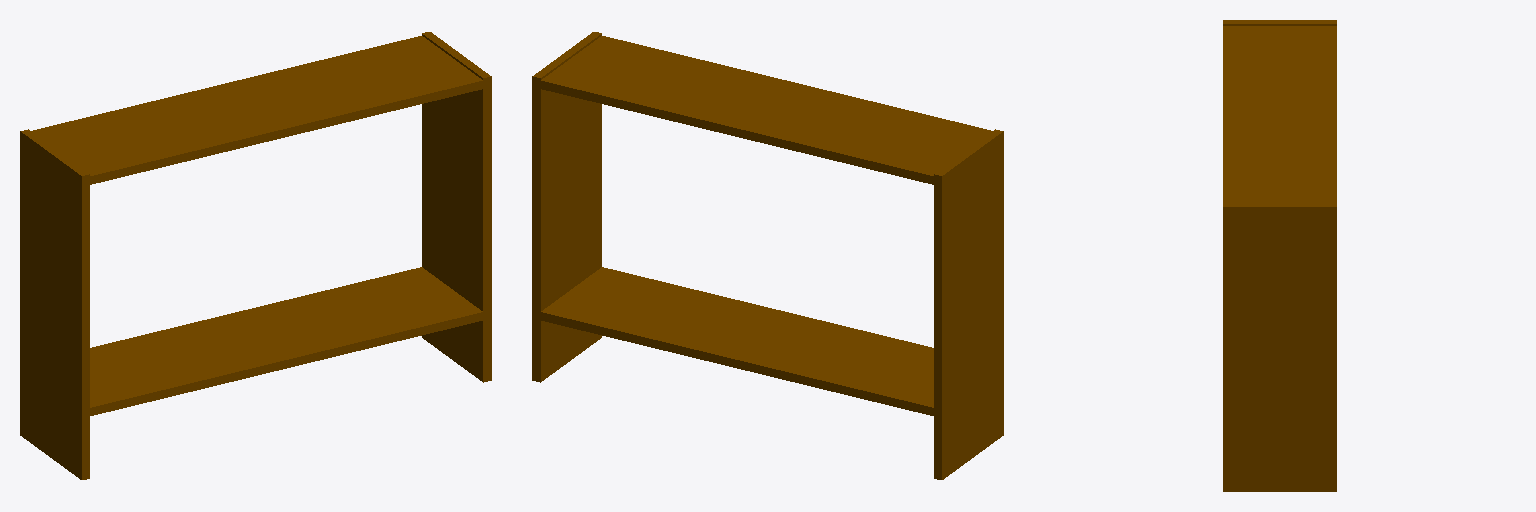
robot.urdf — shelf:
<?xml version="1.0" ?>
<robot name="shelf">
  <link name="shelf__link">
    <inertial>
      <mass value="1.0"/>
      <origin rpy="0 0 0" xyz="0 0 0"/>
      <inertia ixx="0" ixy="0" ixz="0" iyy="0" iyz="0" izz="0"/>
    </inertial>

    <collision name="shelf__left_side">
      <origin rpy="0 0 0" xyz="0.245 -0.065 0.1"/>
      <geometry>
        <box size="0.01 0.13 0.355"/>
      </geometry>
    </collision>
    <visual>
      <origin rpy="0 0 0" xyz="0.245 -0.065 0.1"/>
      <geometry>
        <box size="0.01 0.13 0.355"/>
      </geometry>
      <material name="Wood">
        <color rgba="0.5 0.32 0.0 1.0"/>
      </material>
    </visual>

    <collision name="shelf__right_side">
      <origin rpy="0 0 0" xyz="-0.245 -0.065 0.1"/>
      <geometry>
        <box size="0.01 0.13 0.355"/>
      </geometry>
    </collision>
    <visual>
      <origin rpy="0 0 0" xyz="-0.245 -0.065 0.1"/>
      <geometry>
        <box size="0.01 0.13 0.355"/>
      </geometry>
      <material name="Wood">
        <color rgba="0.5 0.32 0.0 1.0"/>
      </material>
    </visual>

    <collision name="shelf__bottom">
      <origin rpy="0 0 0" xyz="0 -0.065 0"/>
      <geometry>
        <box size="0.48 0.13 0.01"/>
      </geometry>
    </collision>
    <visual>
      <origin rpy="0 0 0" xyz="0 -0.065 0"/>
      <geometry>
        <box size="0.48 0.13 0.01"/>
      </geometry>
      <material name="Wood">
        <color rgba="0.5 0.32 0.0 1.0"/>
      </material>
    </visual>

    <collision name="shelf__top">
      <origin rpy="0 0 0" xyz="0 -0.065 0.27"/>
      <geometry>
        <box size="0.48 0.13 0.01"/>
      </geometry>
    </collision>
    <visual>
      <origin rpy="0 0 0" xyz="0 -0.065 0.27"/>
      <geometry>
        <box size="0.48 0.13 0.01"/>
      </geometry>
      <material name="Wood">
        <color rgba="0.5 0.32 0.0 1.0"/>
      </material>
    </visual>
  </link>
</robot>

--- Facts derived from the render (not from the file) ---
Views: 3 orthographic renders of the robot side by side, from view 1: azimuth 30°, elevation 25°; view 2: azimuth 150°, elevation 25°; view 3: azimuth 270°, elevation 25°.
Model shelf with 1 links and 0 joints (none), rooted at shelf__link, posed all joints at 0.
Visible links, largest first — view 1: shelf__link; view 2: shelf__link; view 3: shelf__link.
Link boxes in pixels (x1=…): shelf__link: x1=20, y1=32, x2=491, y2=479; shelf__link: x1=532, y1=32, x2=1003, y2=479; shelf__link: x1=1223, y1=20, x2=1336, y2=491.
Bounding box of the posed robot: 0.5 × 0.13 × 0.355 m (x, y, z).
Geometry: primitives only (box / cylinder / sphere), no mesh files.